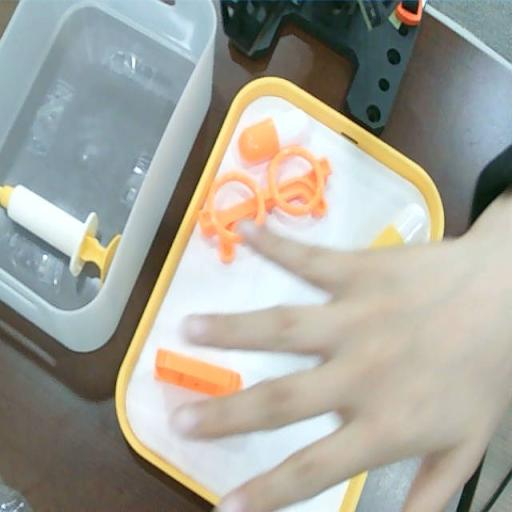hospital: (160, 190, 511, 510)
